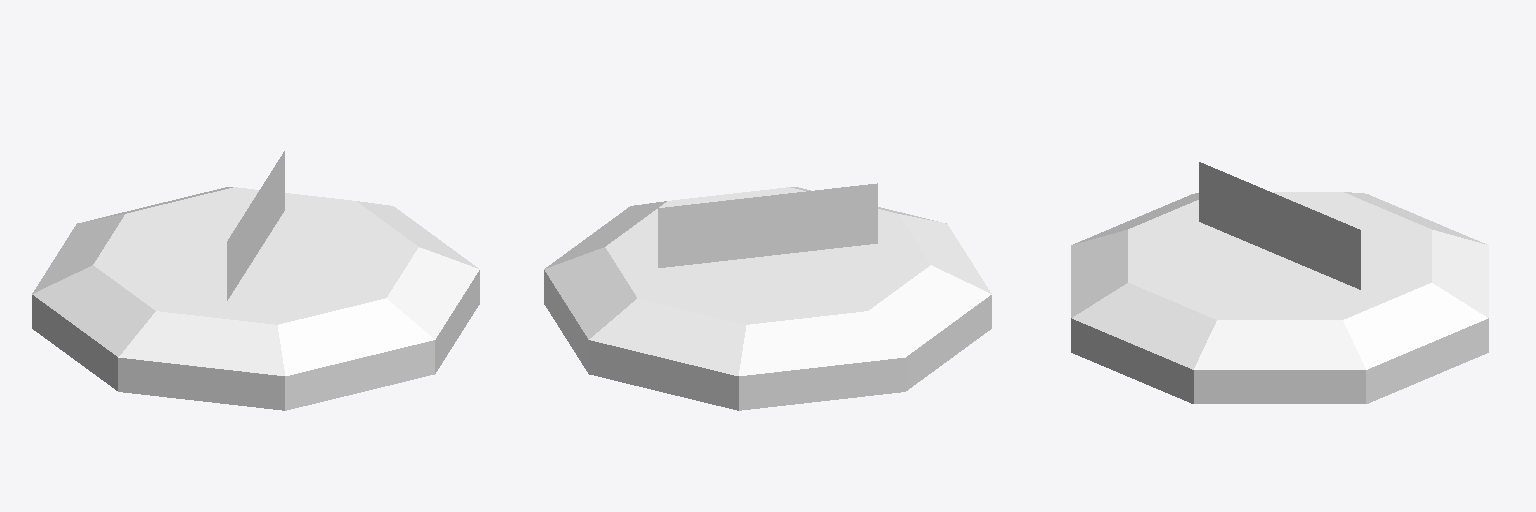
The model's file is dolia_lid2.obj.
3 views of the same model, side by side, from view 1: azimuth 30°, elevation 25°; view 2: azimuth 150°, elevation 25°; view 3: azimuth 270°, elevation 25° (orthographic).
Parts seen in each view (by area): view 1: dolia, handle.001; view 2: dolia, handle.001; view 3: dolia, handle.001.
Boxes of the visible parts, x1=… form: dolia: x1=32, y1=187, x2=479, y2=410; handle.001: x1=227, y1=151, x2=284, y2=300; dolia: x1=544, y1=187, x2=991, y2=410; handle.001: x1=658, y1=183, x2=877, y2=267; dolia: x1=1071, y1=192, x2=1488, y2=403; handle.001: x1=1199, y1=162, x2=1360, y2=289.
Size of the model in its own units: 0.6875 by 0.2188 by 0.6875.